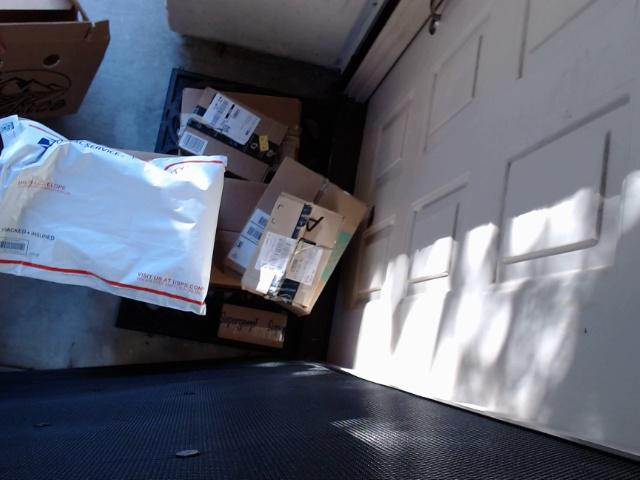box: (236, 158, 373, 309), (163, 73, 315, 205), (162, 230, 308, 352)
plastic_bag: (0, 114, 228, 317)
